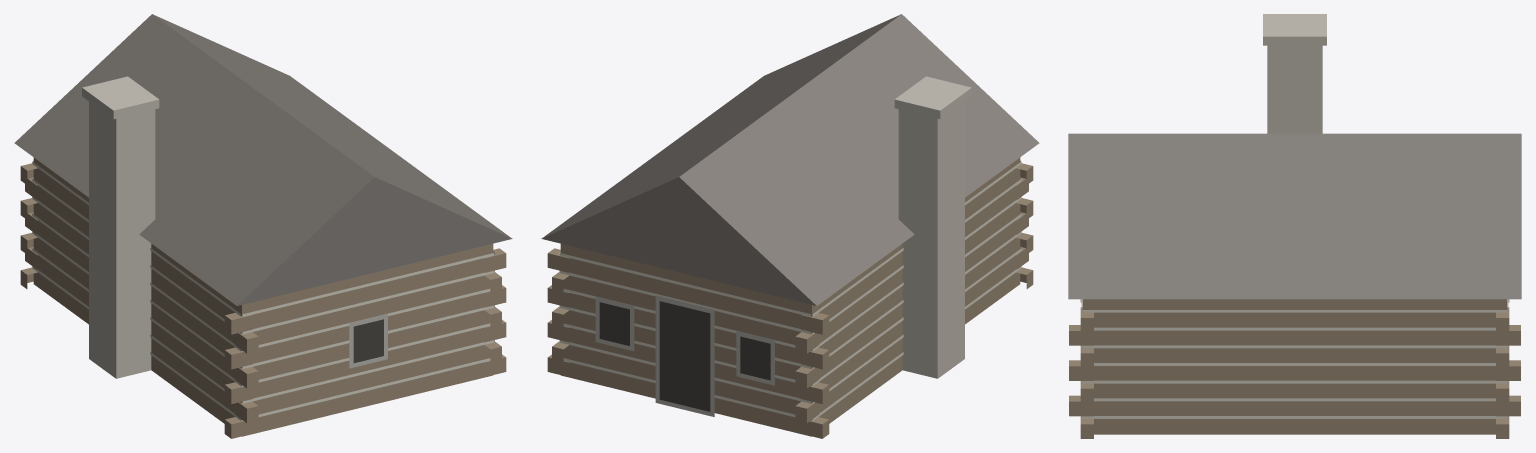
Rendered from recon_1835_blk_randolph_market_d1_10__inferred_1835.glb.
3 views of the same model, side by side, from view 1: azimuth 30°, elevation 25°; view 2: azimuth 150°, elevation 25°; view 3: azimuth 270°, elevation 25° (orthographic).
Visible parts, largest first — view 1: recon_1835_blk_randolph_market_d1_10__inferred_1835; view 2: recon_1835_blk_randolph_market_d1_10__inferred_1835; view 3: recon_1835_blk_randolph_market_d1_10__inferred_1835.
Boxes of the visible parts, x1,y1,x2,y2 form: recon_1835_blk_randolph_market_d1_10__inferred_1835: (14,14,512,438); recon_1835_blk_randolph_market_d1_10__inferred_1835: (541,14,1039,438); recon_1835_blk_randolph_market_d1_10__inferred_1835: (1068,14,1521,438).
Bounding box in the file's own units: 6.22 × 5.37 × 7.9.
